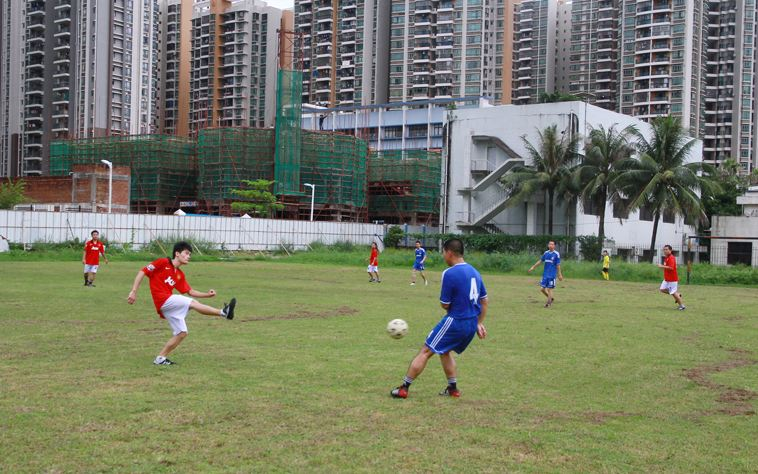football: (387, 319, 410, 342)
